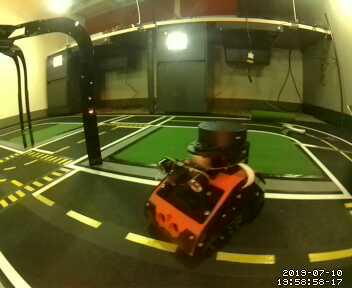pheeno: (145, 113, 267, 266)
